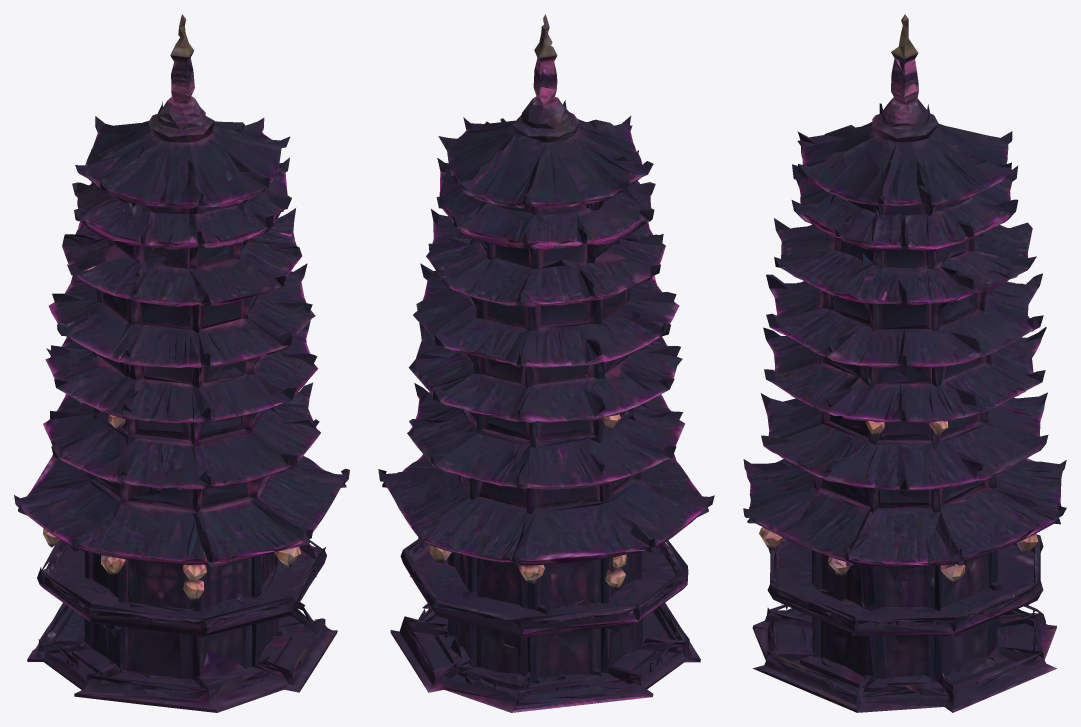
File: mx_bld_pagoda.glb
3 views of the same model, side by side, from view 1: azimuth 30°, elevation 25°; view 2: azimuth 150°, elevation 25°; view 3: azimuth 270°, elevation 25° (orthographic).
Size of the model in its own units: 0.8747 by 1.9 by 0.8785.
Materials: 1 (1 with a texture image).
